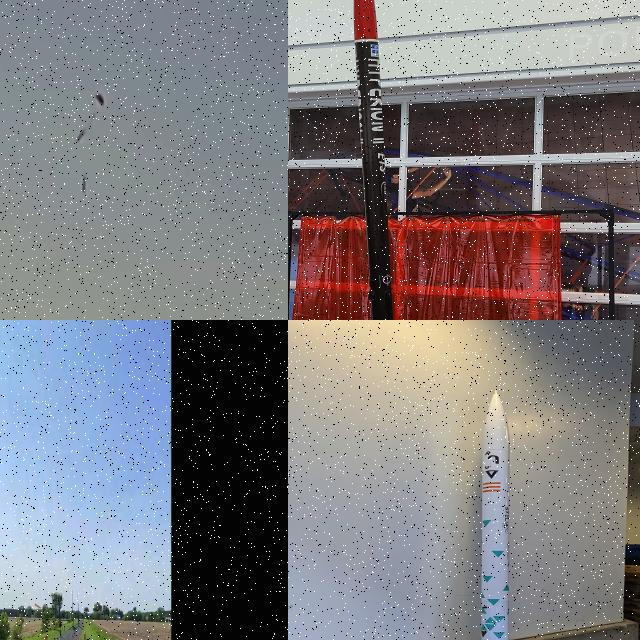Rocket: (354, 0, 393, 320), (481, 389, 510, 640), (58, 601, 62, 630), (82, 174, 86, 193)
